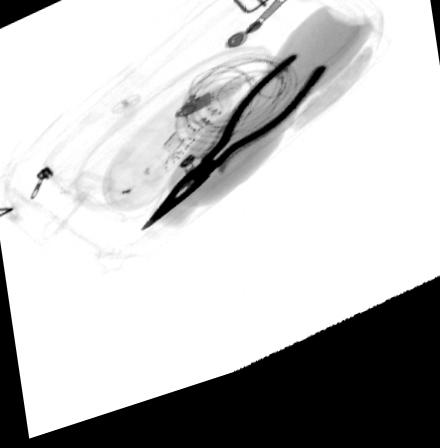Pliers: (140, 71, 330, 240)
